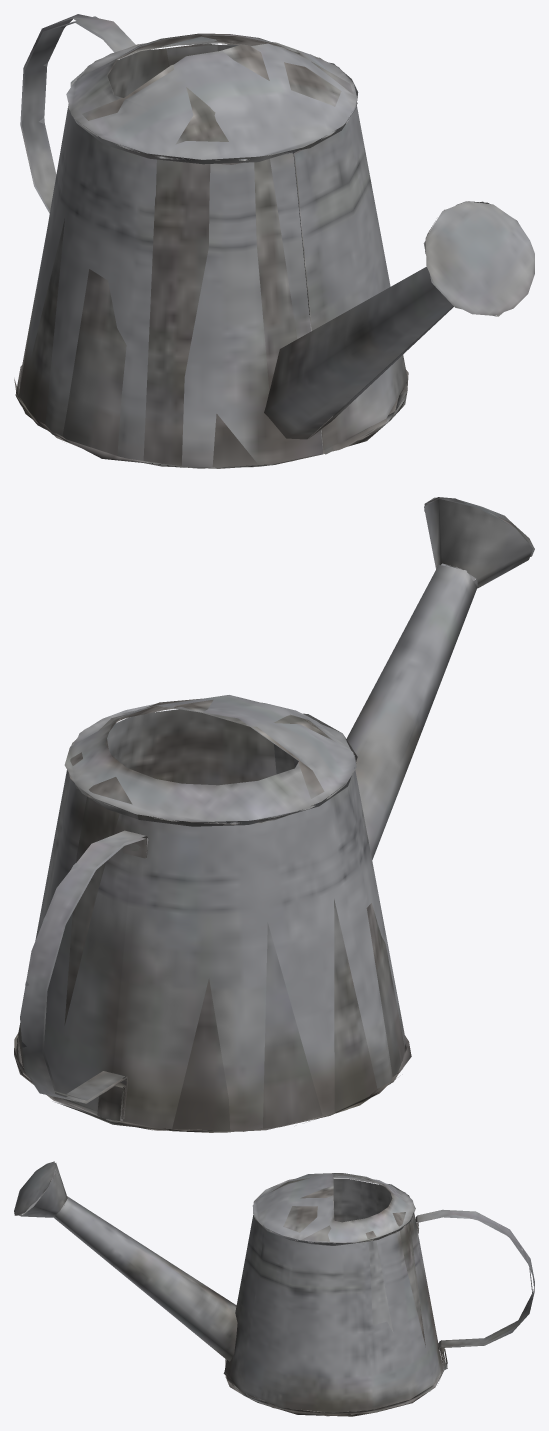
Rendered from watering_can_metal_01.glb.
3 renders of one model, top to bottom at view 1: azimuth 30°, elevation 25°; view 2: azimuth 150°, elevation 25°; view 3: azimuth 270°, elevation 25°, orthographic. The views are drawn at different scales.
Visible parts, largest first — view 1: watering_can_metal_01; view 2: watering_can_metal_01; view 3: watering_can_metal_01.
Boxes of the visible parts, x1=… form: watering_can_metal_01: x1=14, y1=14, x2=534, y2=468; watering_can_metal_01: x1=14, y1=497, x2=534, y2=1132; watering_can_metal_01: x1=14, y1=1161, x2=534, y2=1416.
Size of the model in its own units: 0.1917 by 0.1967 by 0.4522.
1 material, 1 textured.
